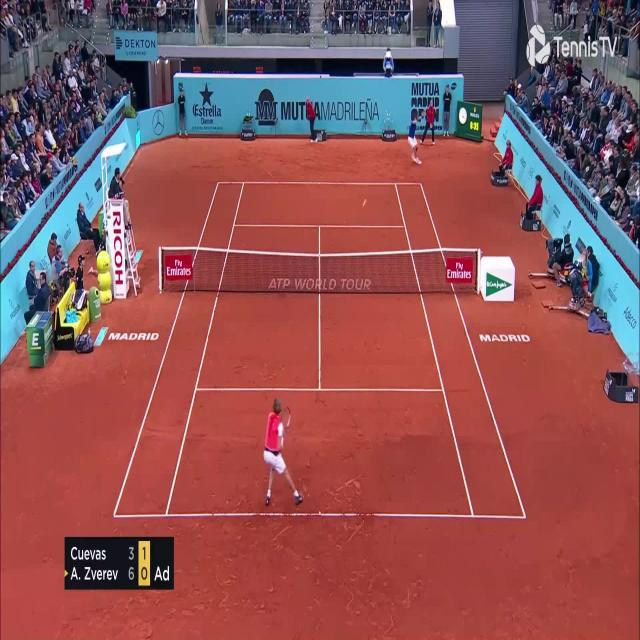bottom-dead-zone: (165, 388, 474, 517)
court: (113, 181, 527, 519)
left-doubles-alley: (112, 181, 245, 518)
left-service-box: (194, 225, 321, 391)
net: (159, 246, 481, 295)
right-doubles-alley: (394, 182, 527, 519)
right-service-box: (319, 225, 445, 392)
top-dead-zone: (233, 181, 407, 228)
